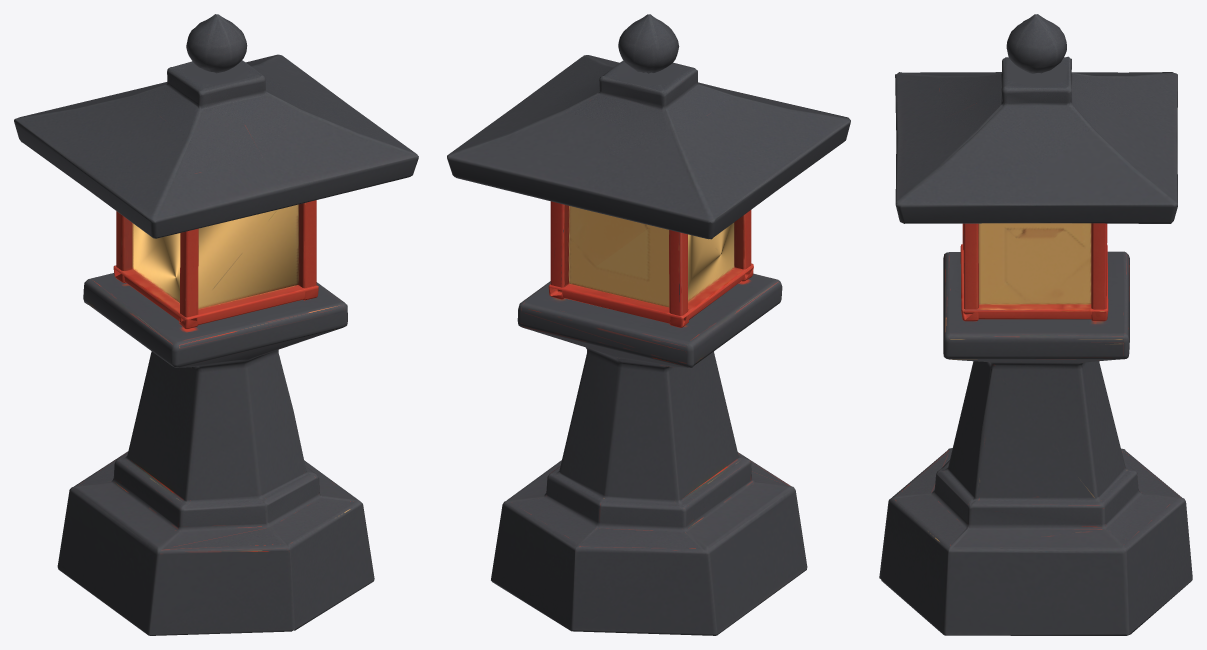
Rendered from light_source.glb.
3 renders of one model, left to right at view 1: azimuth 30°, elevation 25°; view 2: azimuth 150°, elevation 25°; view 3: azimuth 270°, elevation 25°, orthographic.
Bounding box in the file's own units: 0.502 × 1 × 0.502.
1 material, 1 textured.
